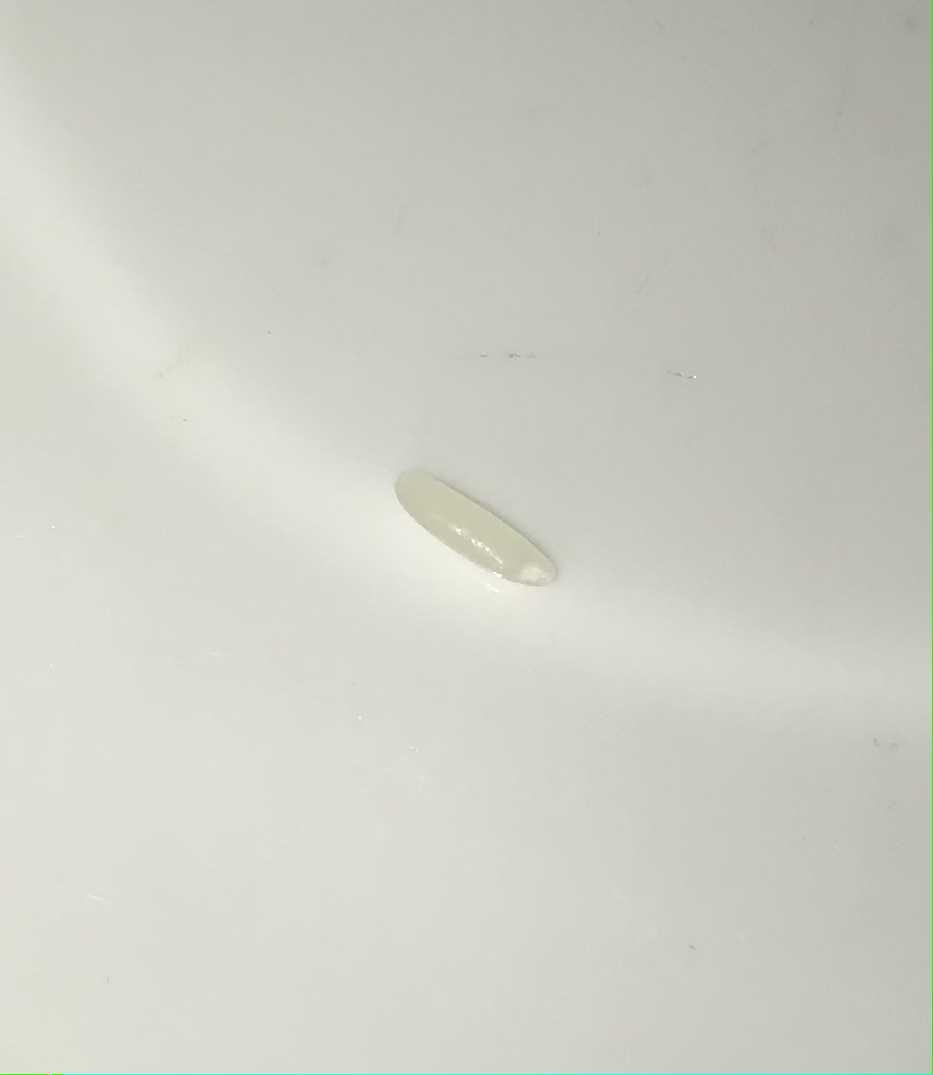Gao Ngoc Troi: (394, 459, 570, 598)
